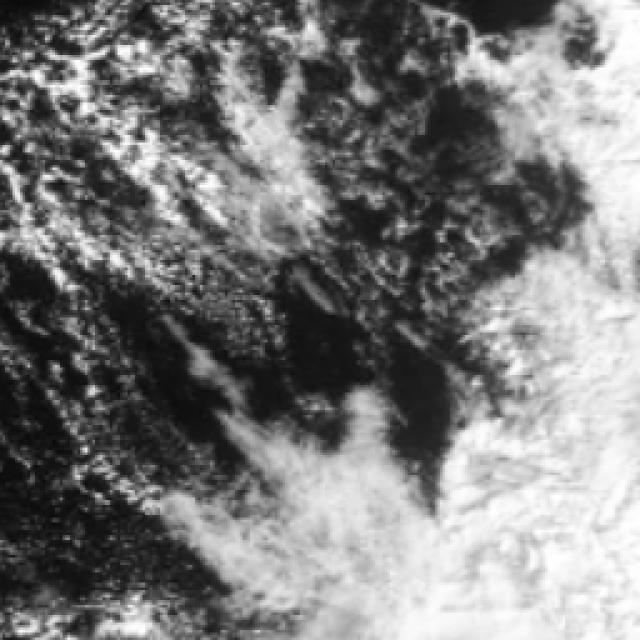CB: (492, 422, 640, 640), (352, 505, 570, 640), (547, 297, 640, 493), (288, 477, 402, 580)
